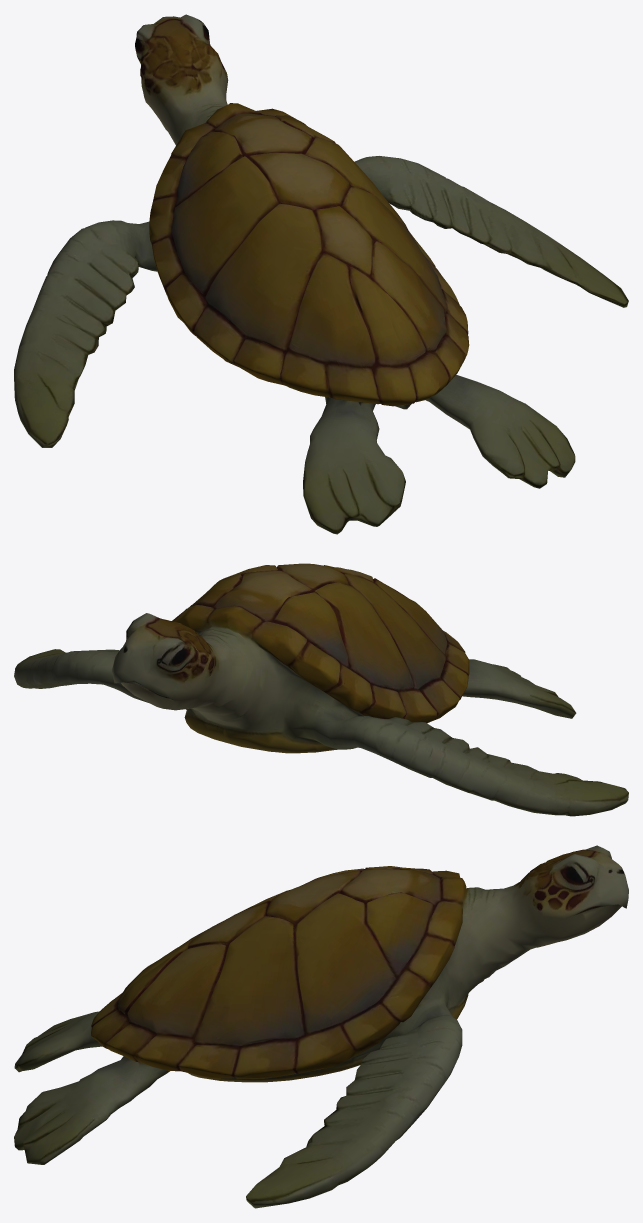
Rendered from turtle.glb.
The picture shows the model from 3 angles, top to bottom: view 1: azimuth 30°, elevation 25°; view 2: azimuth 150°, elevation 25°; view 3: azimuth 270°, elevation 25°; orthographic projection. The views are drawn at different scales.
Visible parts, largest first — view 1: tripo_node_3e7a81c6-6748-484d-8b4c-a2636ebf709e; view 2: tripo_node_3e7a81c6-6748-484d-8b4c-a2636ebf709e; view 3: tripo_node_3e7a81c6-6748-484d-8b4c-a2636ebf709e.
Boxes of the visible parts, bbox=[...] form: tripo_node_3e7a81c6-6748-484d-8b4c-a2636ebf709e: bbox=[14, 14, 628, 534]; tripo_node_3e7a81c6-6748-484d-8b4c-a2636ebf709e: bbox=[14, 563, 628, 816]; tripo_node_3e7a81c6-6748-484d-8b4c-a2636ebf709e: bbox=[14, 845, 628, 1208].
Size of the model in its own units: 1 by 0.445 by 0.9283.
1 material, 1 textured.
